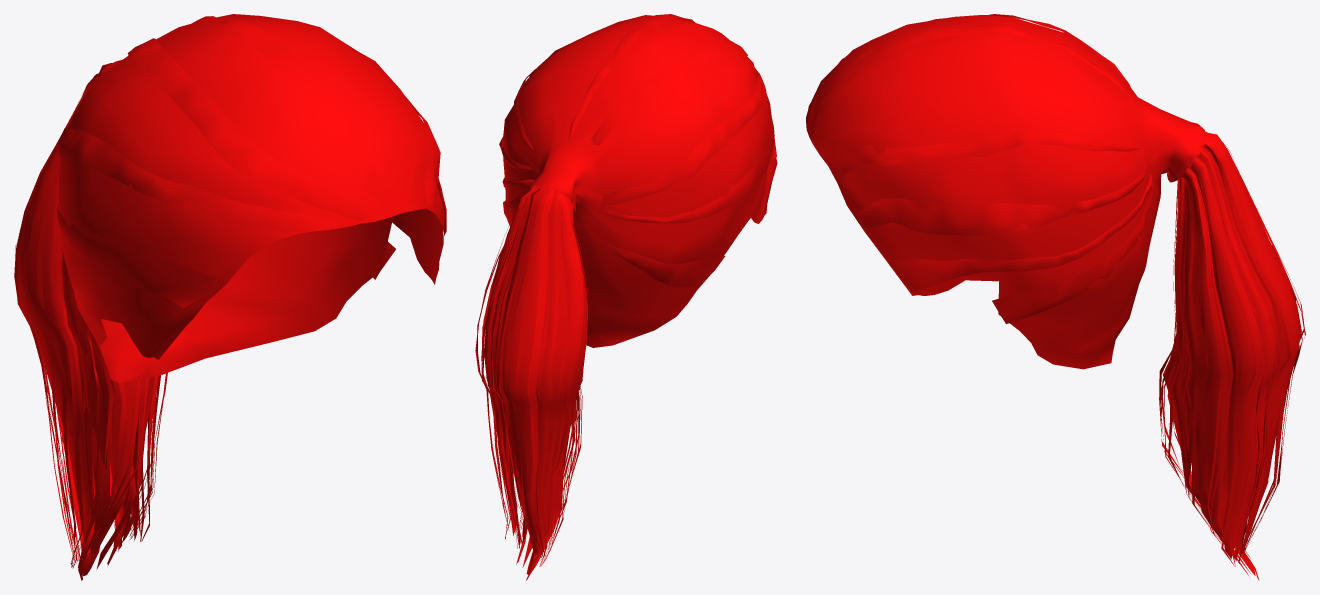
File: ponytail01_M.glb
3 views of the same model, side by side, from view 1: azimuth 30°, elevation 25°; view 2: azimuth 150°, elevation 25°; view 3: azimuth 270°, elevation 25° (orthographic). The views are drawn at different scales.
Size of the model in its own units: 0.1732 by 0.3477 by 0.2828.
1 material, 1 textured.
